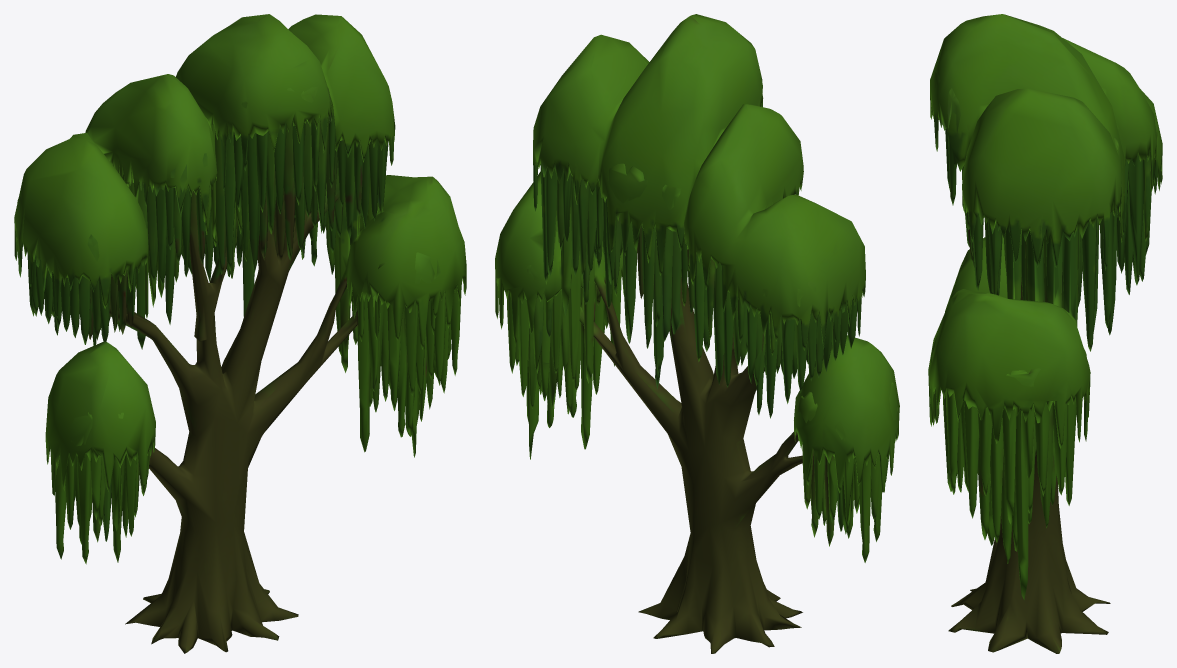
File: swamptree.opt.glb
The picture shows the model from 3 angles, left to right: view 1: azimuth 30°, elevation 25°; view 2: azimuth 150°, elevation 25°; view 3: azimuth 270°, elevation 25°; orthographic projection. The views are drawn at different scales.
Bounding box in the file's own units: 0.7639 × 1.12 × 0.3803.
1 material, 1 textured.
